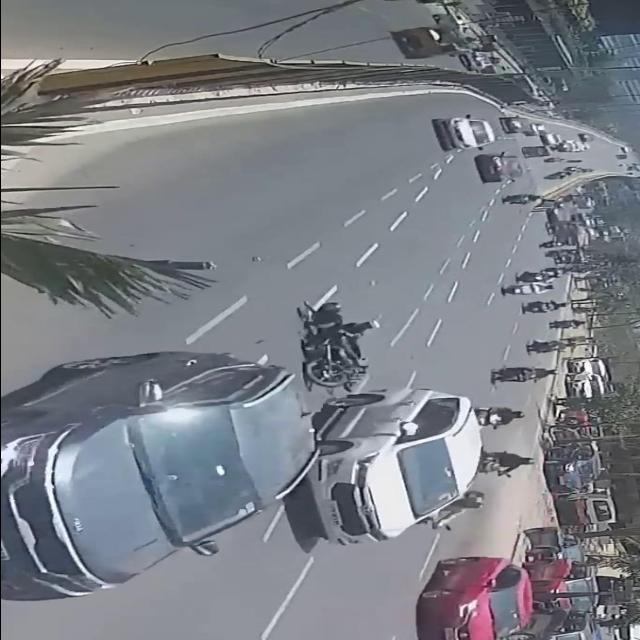accident: (287, 299, 388, 393)
non_accident: (504, 520, 600, 640), (547, 405, 609, 491), (528, 198, 600, 265), (556, 355, 623, 404), (520, 121, 604, 159)
